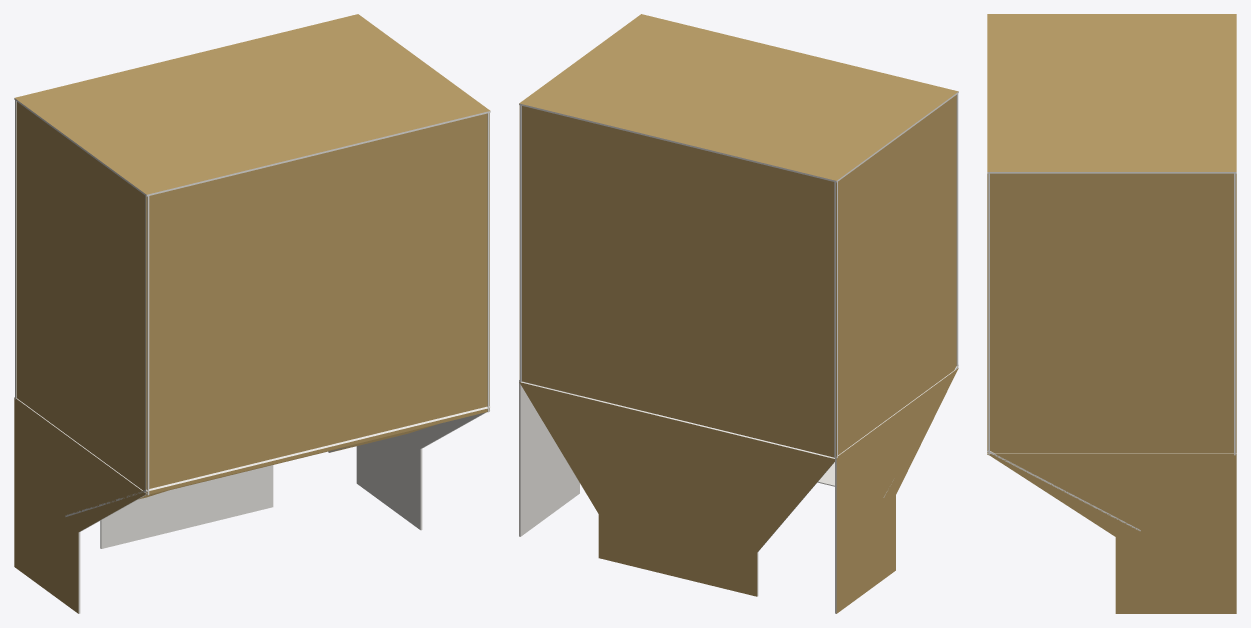
3 views of the same model, side by side, from view 1: azimuth 30°, elevation 25°; view 2: azimuth 150°, elevation 25°; view 3: azimuth 270°, elevation 25° (orthographic). The views are drawn at different scales.
Parts seen in each view (by area): view 1: Packive_Box_fefco0217; view 2: Packive_Box_fefco0217; view 3: Packive_Box_fefco0217.
Boxes of the visible parts, x1,y1,x2,y2 form: Packive_Box_fefco0217: [14, 14, 490, 613]; Packive_Box_fefco0217: [519, 14, 958, 613]; Packive_Box_fefco0217: [987, 14, 1236, 613].
Bounding box in the file's own units: 0.3 × 0.393 × 0.2.
Materials: 26 (13 with a texture image).
